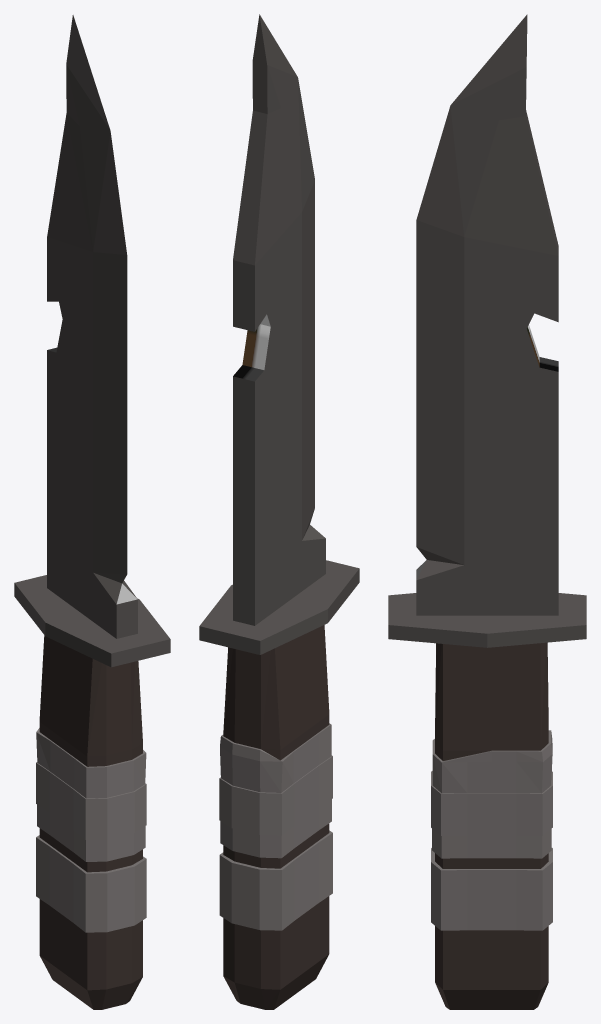
The model's file is o2_Props_Knife_001.fbx.
The picture shows the model from 3 angles, left to right: view 1: azimuth 30°, elevation 25°; view 2: azimuth 150°, elevation 25°; view 3: azimuth 270°, elevation 25°; orthographic projection. The views are drawn at different scales.
Parts seen in each view (by area): view 1: o2_Props_Knife_001; view 2: o2_Props_Knife_001; view 3: o2_Props_Knife_001.
Boxes of the visible parts, x1=… form: o2_Props_Knife_001: x1=14, y1=15, x2=170, y2=1009; o2_Props_Knife_001: x1=199, y1=14, x2=359, y2=1009; o2_Props_Knife_001: x1=388, y1=14, x2=586, y2=1009.
Bounding box in the file's own units: 4.14 × 40.45 × 7.36.
